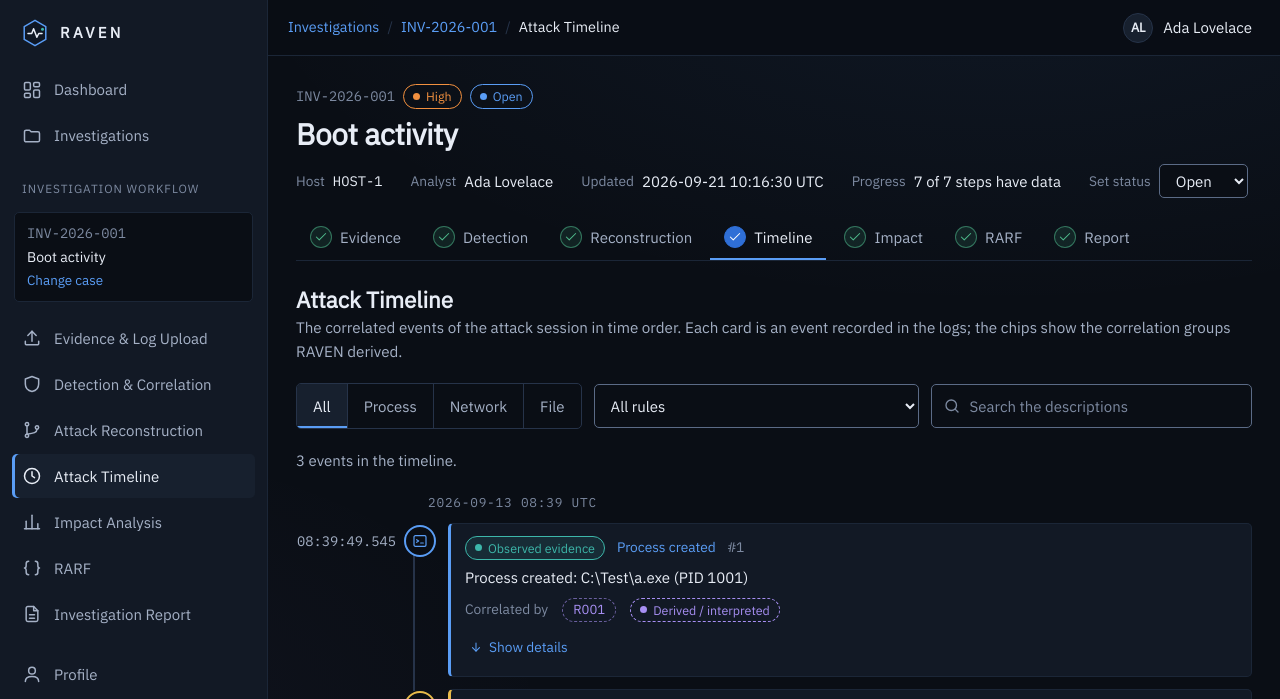
Timeline: filters › tells how many events match while filtering
Expected: the heading "Attack Timeline" is shown, top-left (296, 285), bottom-right (453, 314)
Expected: the text "3 events in the timeline." is shown, top-left (296, 452), bottom-right (457, 470)
Click the button "Network": (479, 406) top-left (434, 384), bottom-right (524, 428)
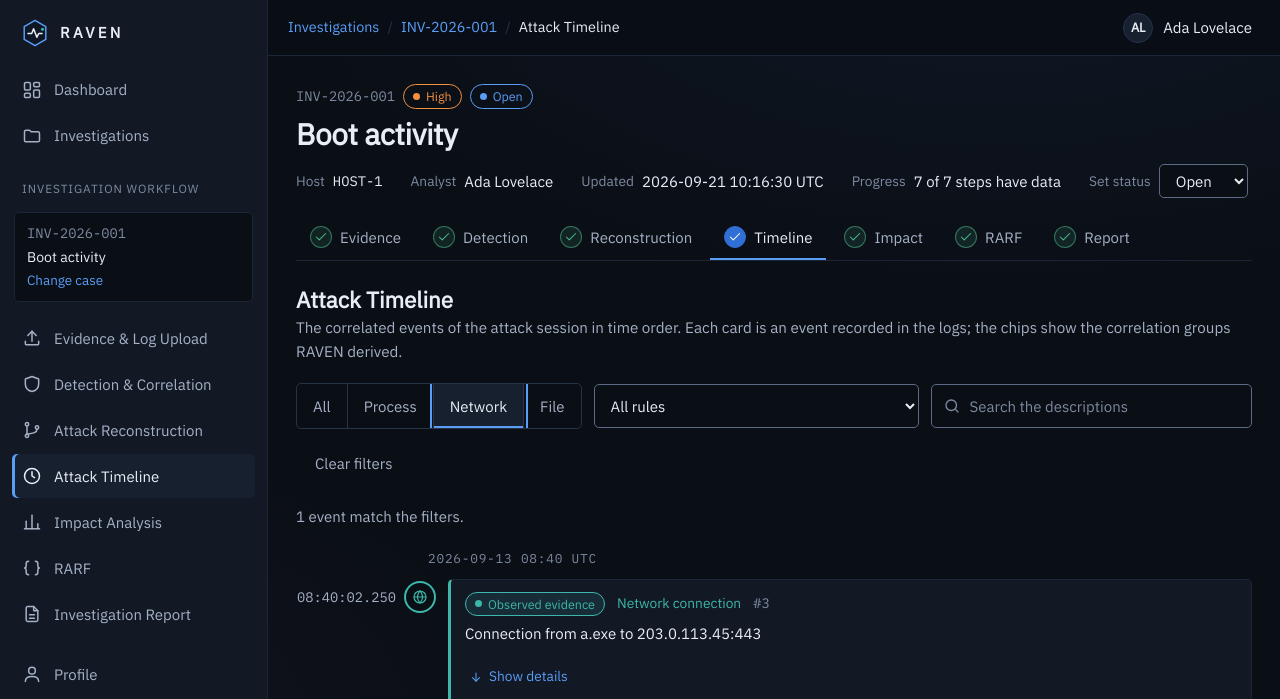
Expected: the text "1 event match the filters." is shown, top-left (296, 508), bottom-right (464, 526)
